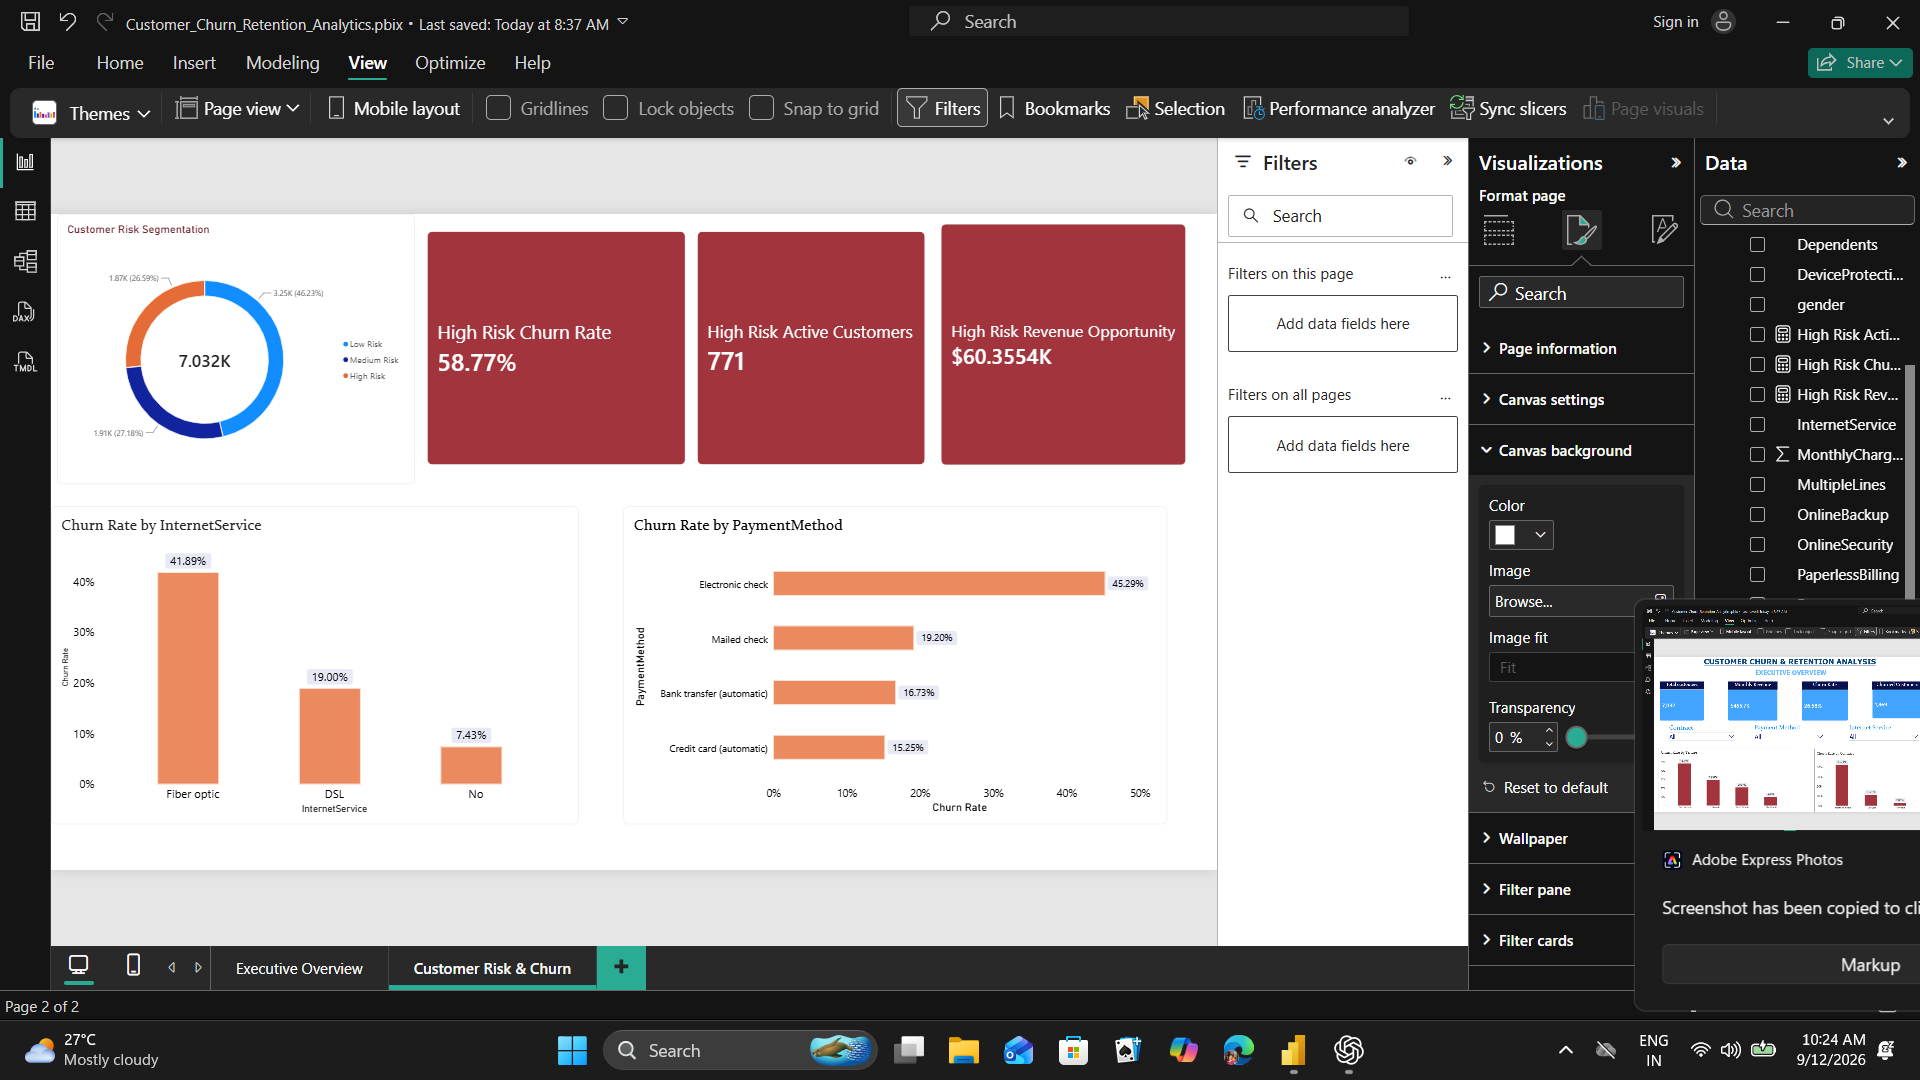

The dashboard page shown, as its layout file describes it:
{"tool":"powerbi","page":{"name":"Customer Risk & Churn","canvas":[1920,1080],"ordinal":1},"visuals":[{"type":"clusteredBarChart","fields":{"Category":["customer_churn_segmented.PaymentMethod"],"Y":["customer_churn_segmented.Churn Rate"]},"box":[10.9,0,589.1,466.9],"z":0},{"type":"clusteredColumnChart","fields":{"Category":["customer_churn_segmented.InternetService"],"Y":["customer_churn_segmented.Churn Rate"]},"box":[10.9,560.7,589,467],"z":1000},{"type":"donutChart","title":"Customer Risk Segmentation","fields":{"Category":["customer_churn_segmented.RiskSegment"],"Y":["CountNonNull(customer_churn_segmented.customerID)"]},"box":[761.5,466.9,922.9,586.9],"z":2000},{"type":"cardVisual","fields":{"Data":["customer_churn_segmented.High Risk Churn Rate"]},"box":[617.5,0,425.5,384],"z":3000},{"type":"cardVisual","fields":{"Data":["customer_churn_segmented.High Risk Active Customers"]},"box":[1064.7,6.5,375.3,384],"z":4000},{"type":"cardVisual","fields":{"Data":["customer_churn_segmented.High Risk Revenue Opportunity"]},"box":[1464,0,403.6,397.1],"z":5000}]}

Visuals, with their boxes on the page's 1920x1080 design canvas (x1, y1, x2, y2). These are canvas units, not pixel positions in the 1920x1080 screenshot, which may show the page scaled, cropped or inside an application window:
clusteredBarChart - customer_churn_segmented.PaymentMethod x customer_churn_segmented.Churn Rate: box=[11, 0, 600, 467]
clusteredColumnChart - customer_churn_segmented.InternetService x customer_churn_segmented.Churn Rate: box=[11, 561, 600, 1028]
"Customer Risk Segmentation" donutChart: box=[762, 467, 1684, 1054]
cardVisual - customer_churn_segmented.High Risk Churn Rate: box=[618, 0, 1043, 384]
cardVisual - customer_churn_segmented.High Risk Active Customers: box=[1065, 6, 1440, 390]
cardVisual - customer_churn_segmented.High Risk Revenue Opportunity: box=[1464, 0, 1868, 397]
